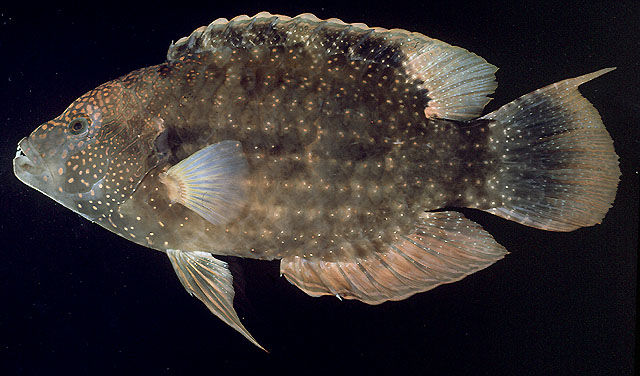fish: (13, 12, 622, 356)
